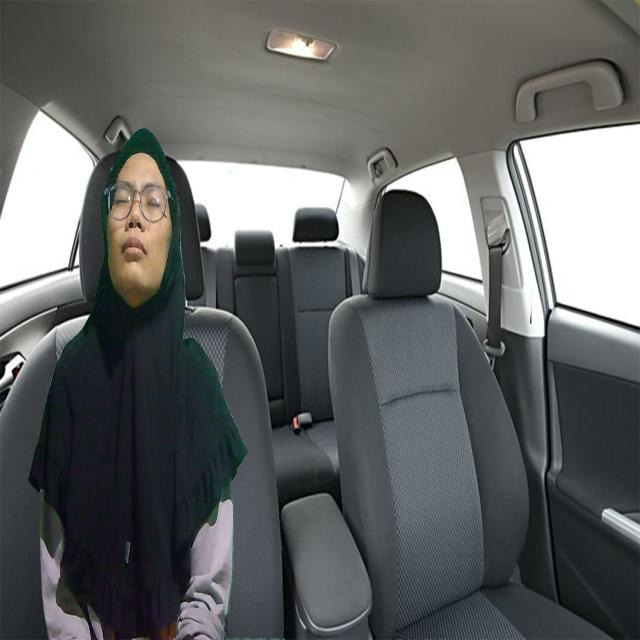no-seatbelt: (101, 132, 183, 312)
